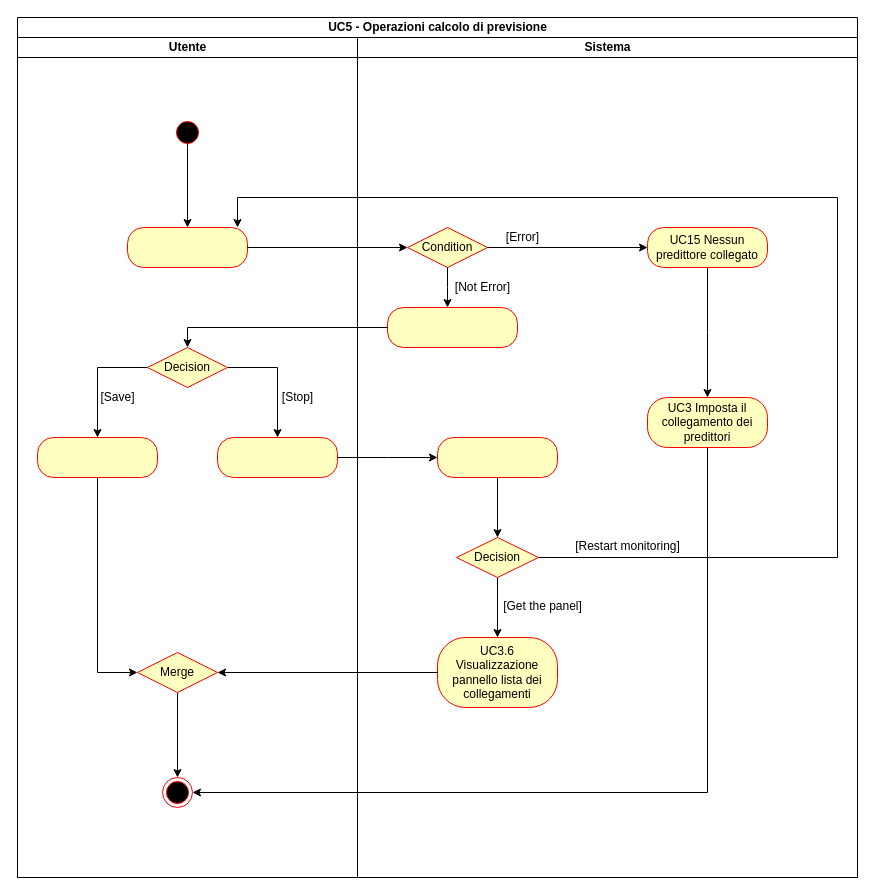
This 875x895 diagram has some shape labels left out. Here are the shapes that lost their labels. From the top down, the centre of each, then its label:
(x=187, y=247): UC5.2 Avvia il monitoraggio
(x=452, y=327): UC5.3 Monitoraggio avviato con successo
(x=97, y=457): UC5.6 Salva la previsione
(x=277, y=457): UC5.4 Interrompi monitoraggio
(x=497, y=457): UC5.5 Monitoraggio interrotto
